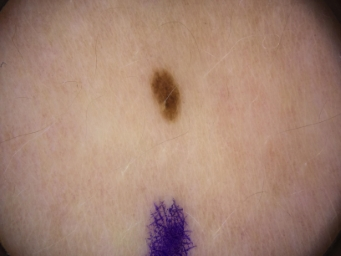nevus: (153, 70, 180, 122)
